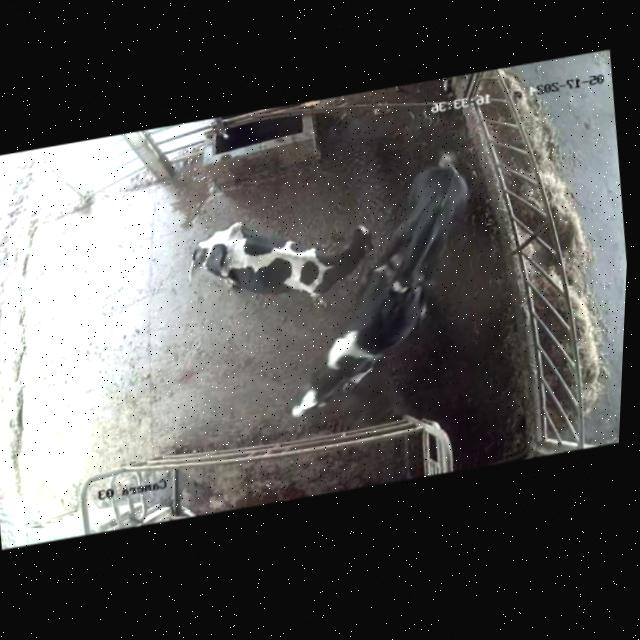ride: (351, 145, 498, 334)
stand: (263, 256, 446, 437), (167, 198, 376, 318)
